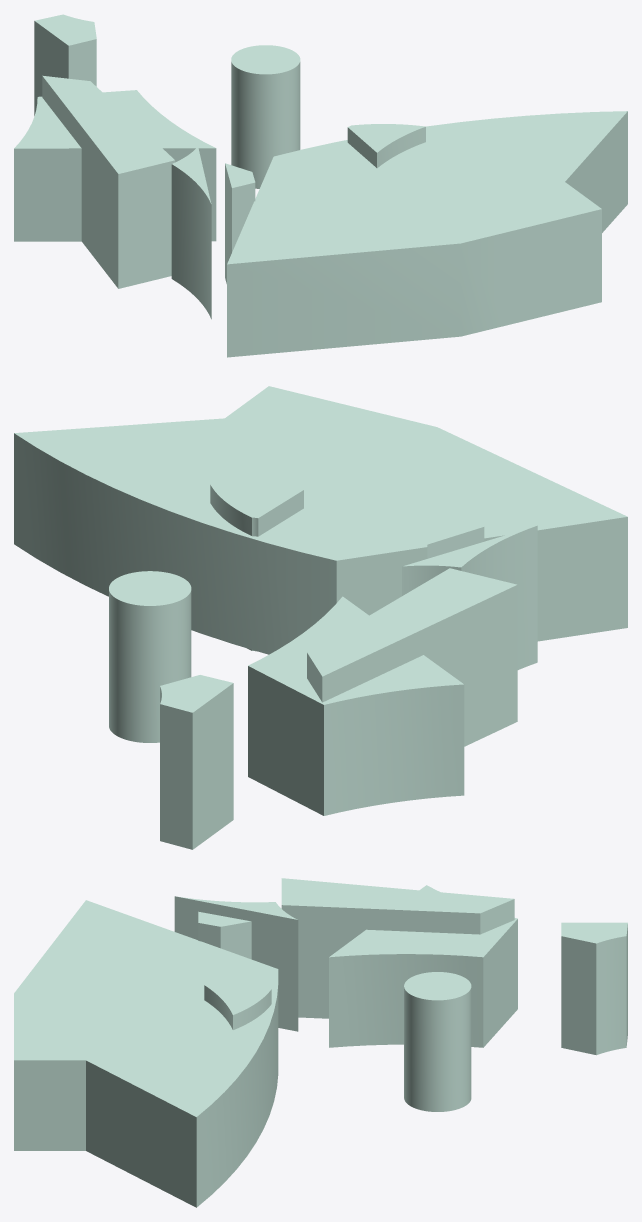
3 views of the same model, one above another, from view 1: azimuth 30°, elevation 25°; view 2: azimuth 150°, elevation 25°; view 3: azimuth 270°, elevation 25° (orthographic). The views are drawn at different scales.
Parts seen in each view (by area): view 1: Renderer Node; view 2: Renderer Node; view 3: Renderer Node.
Boxes of the visible parts, <box> form: Renderer Node: <box>14,14,627,357</box>; Renderer Node: <box>14,386,627,849</box>; Renderer Node: <box>14,878,627,1207</box>.
Size of the model in its own units: 1.31 by 0.2891 by 1.44.
